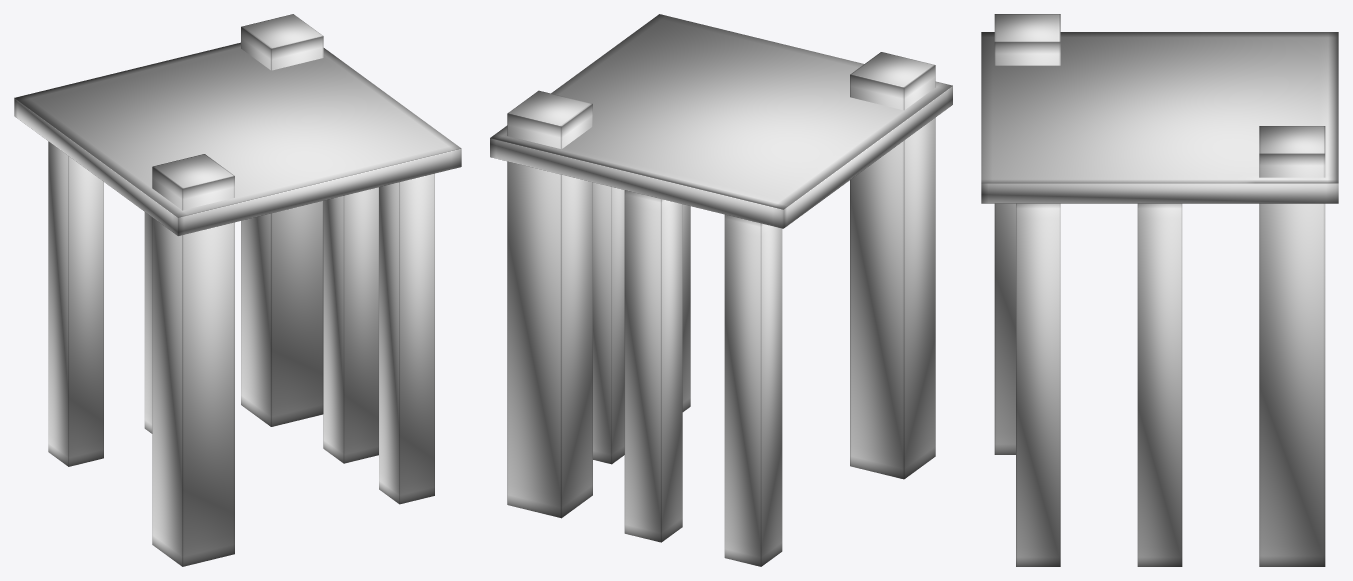
File: Pier-02.fbx
The picture shows the model from 3 angles, left to right: view 1: azimuth 30°, elevation 25°; view 2: azimuth 150°, elevation 25°; view 3: azimuth 270°, elevation 25°; orthographic projection. The views are drawn at different scales.
Parts seen in each view (by area): view 1: Pier-02; view 2: Pier-02; view 3: Pier-02.
Part boxes in pixels (x1,y1,x2,y2): Pier-02: [14, 14, 461, 566]; Pier-02: [490, 14, 952, 566]; Pier-02: [981, 14, 1338, 566].
Size of the model in its own units: 1 by 1.27 by 1.
